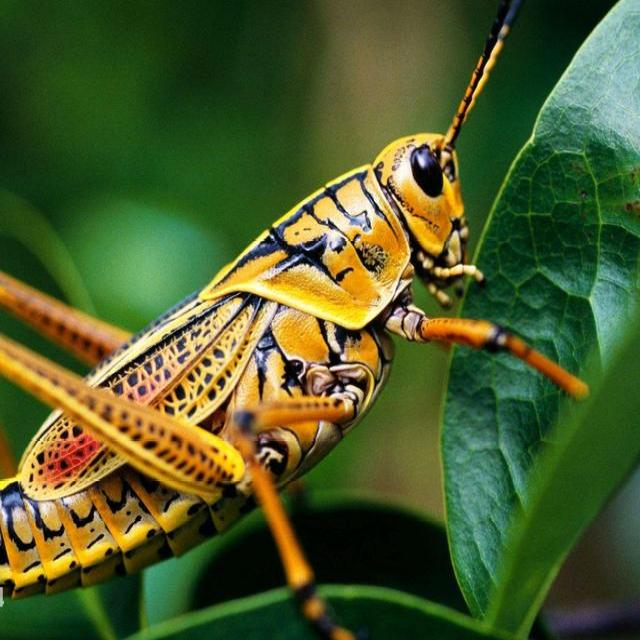ZhaMeng: (1, 90, 532, 631)
